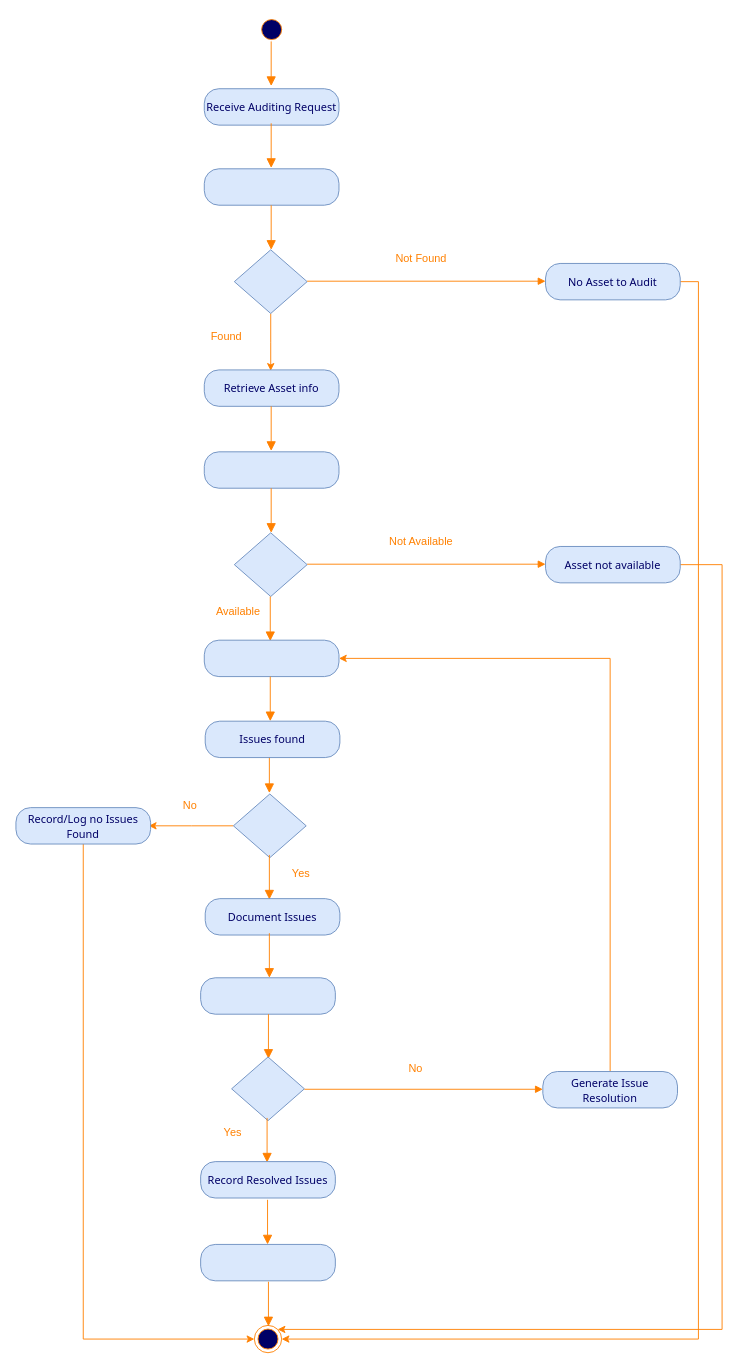
Image size: 745x1369. Some labels were removed from this diagram. The centre of each missing label's shape, as x and y in pixels:
"Check Asset Status" goes at point 271,469.
"Initiate Asset Inspection" goes at point 271,658.
"Issues Resolved" goes at point 267,995.
"Search for Assets" goes at point 271,186.
"Update Audit Log" goes at point 267,1262.
